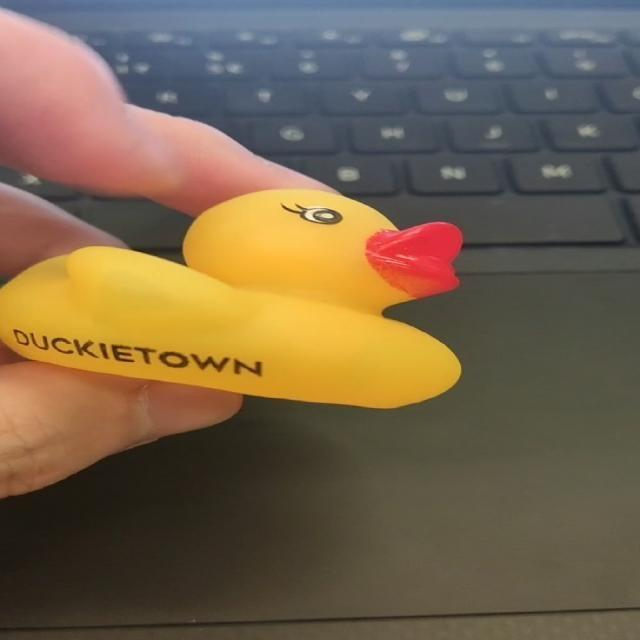rubber-duck: (0, 188, 460, 406)
